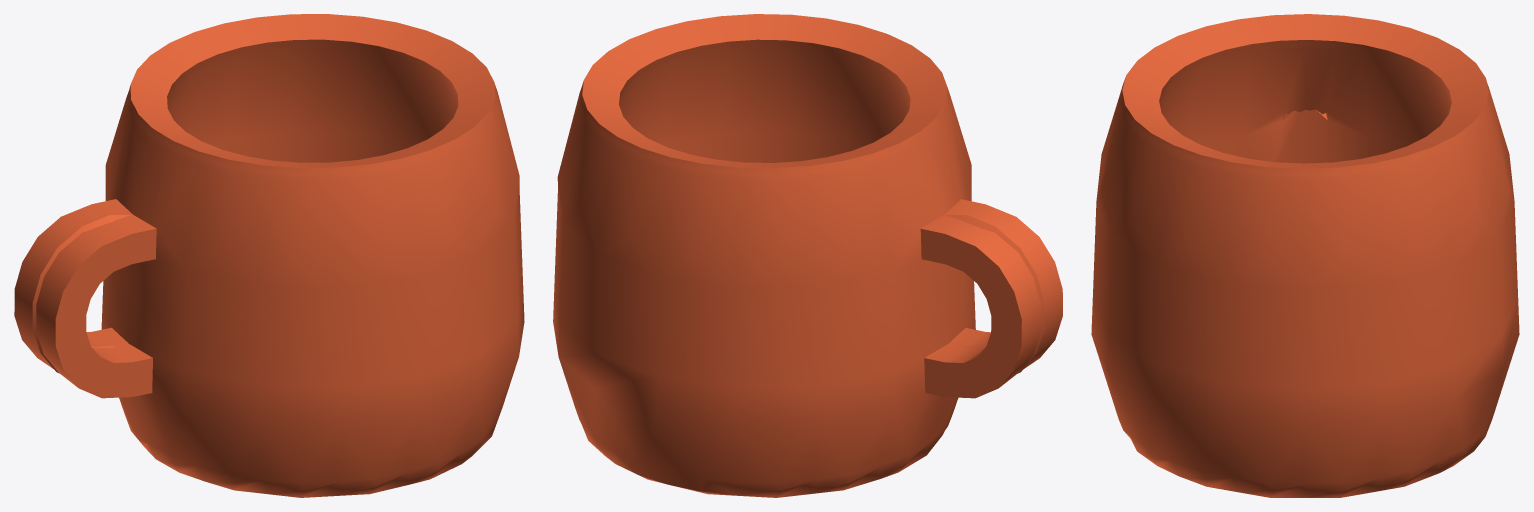
Rendered from woodenMug.fbx.
The picture shows the model from 3 angles, left to right: view 1: azimuth 30°, elevation 25°; view 2: azimuth 150°, elevation 25°; view 3: azimuth 270°, elevation 25°; orthographic projection.
Parts seen in each view (by area): view 1: Cylinder; view 2: Cylinder; view 3: Cylinder.
Boxes of the visible parts, left/top/right/bottom form: Cylinder: left=14, top=14, right=524, bottom=497; Cylinder: left=553, top=14, right=1062, bottom=497; Cylinder: left=1091, top=14, right=1519, bottom=497.
Size of the model in its own units: 293 by 200 by 233.
